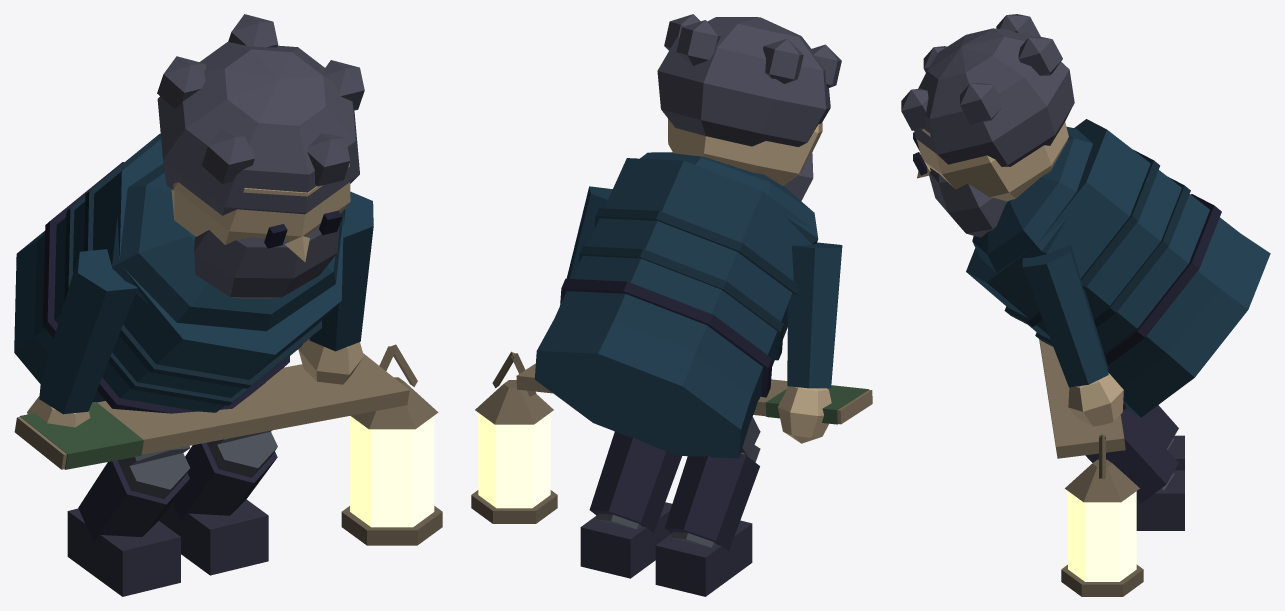
Rendered from dunstan_turning.glb.
3 renders of one model, left to right at view 1: azimuth 30°, elevation 25°; view 2: azimuth 150°, elevation 25°; view 3: azimuth 270°, elevation 25°, orthographic. The views are drawn at different scales.
Visible parts, largest first — view 1: Head, Torso, ArmL, LegR, Stool, LegL, ArmR; view 2: Torso, Head, LegR, Stool, LegL, ArmR, ArmL; view 3: Torso, Head, ArmL, Stool, LegL, LegR.
Part boxes in pixels (left/top/right/bottom): Head: left=157, top=14, right=364, bottom=298; Torso: left=14, top=133, right=345, bottom=413; ArmL: left=14, top=191, right=409, bottom=469; LegR: left=67, top=446, right=190, bottom=596; Stool: left=341, top=344, right=442, bottom=545; LegL: left=159, top=382, right=277, bottom=575; ArmR: left=27, top=249, right=137, bottom=427; Torso: left=534, top=152, right=818, bottom=458; Head: left=657, top=14, right=841, bottom=200; LegR: left=655, top=416, right=760, bottom=596; Stool: left=471, top=351, right=557, bottom=523; LegL: left=580, top=431, right=681, bottom=578; ArmR: left=778, top=242, right=842, bottom=443; ArmL: left=516, top=186, right=872, bottom=424; Torso: left=966, top=119, right=1270, bottom=417; Head: left=901, top=14, right=1074, bottom=237; ArmL: left=1022, top=244, right=1125, bottom=458; Stool: left=1061, top=432, right=1143, bottom=596; LegL: left=1085, top=402, right=1184, bottom=530; LegR: left=1137, top=405, right=1184, bottom=470.
Size of the model in its own units: 1.24 by 1.64 by 1.16.
